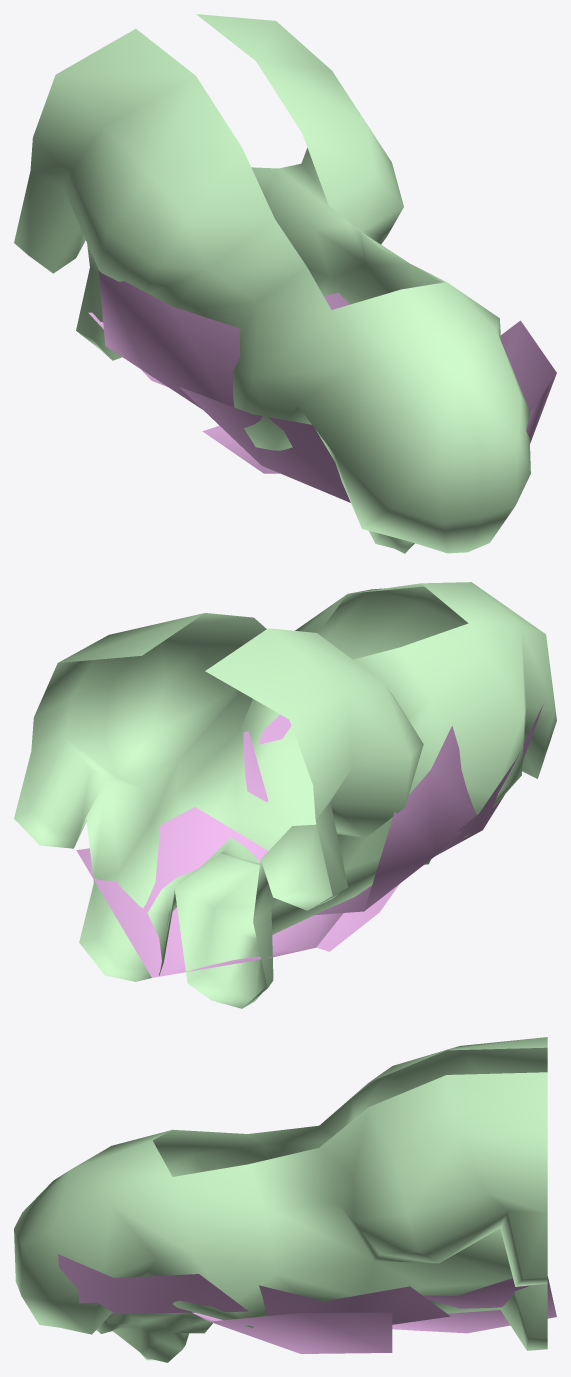
3 renders of one model, top to bottom at view 1: azimuth 30°, elevation 25°; view 2: azimuth 150°, elevation 25°; view 3: azimuth 270°, elevation 25°, orthographic. The views are drawn at different scales.
Parts seen in each view (by area): view 1: Object14; view 2: Object14; view 3: Object14.
Boxes of the visible parts, x1,y1,x2,y2 form: Object14: (14,14,556,553); Object14: (14,582,556,1008); Object14: (14,1037,556,1362).
Bounding box in the file's own units: 9982 × 11241 × 18421.
